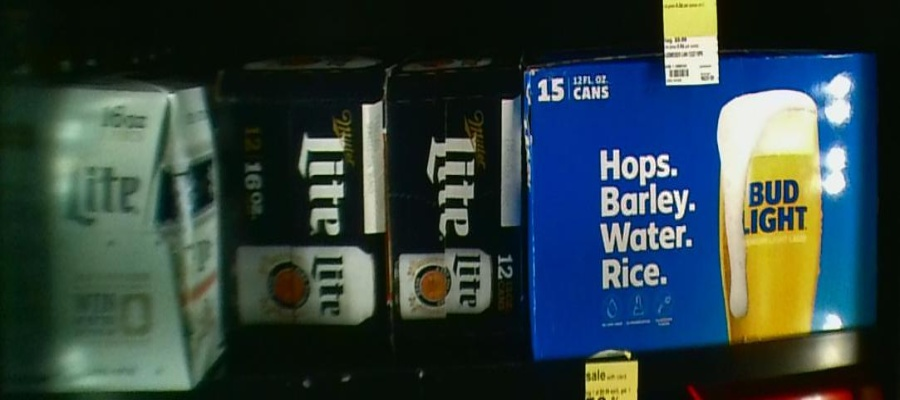bottle: (528, 50, 881, 339), (2, 78, 219, 383), (220, 72, 386, 344), (390, 69, 524, 335)
